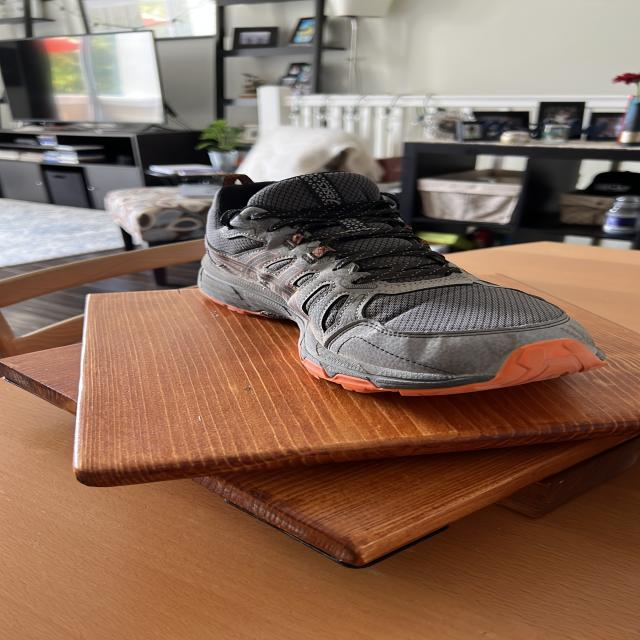shoe: (196, 171, 611, 399)
